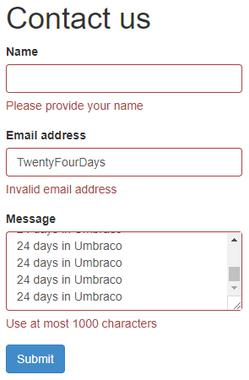error_field: (5, 230, 244, 312), (5, 147, 243, 177), (5, 64, 242, 93)
error_message: (4, 316, 157, 331), (5, 98, 145, 113), (3, 183, 122, 196)
